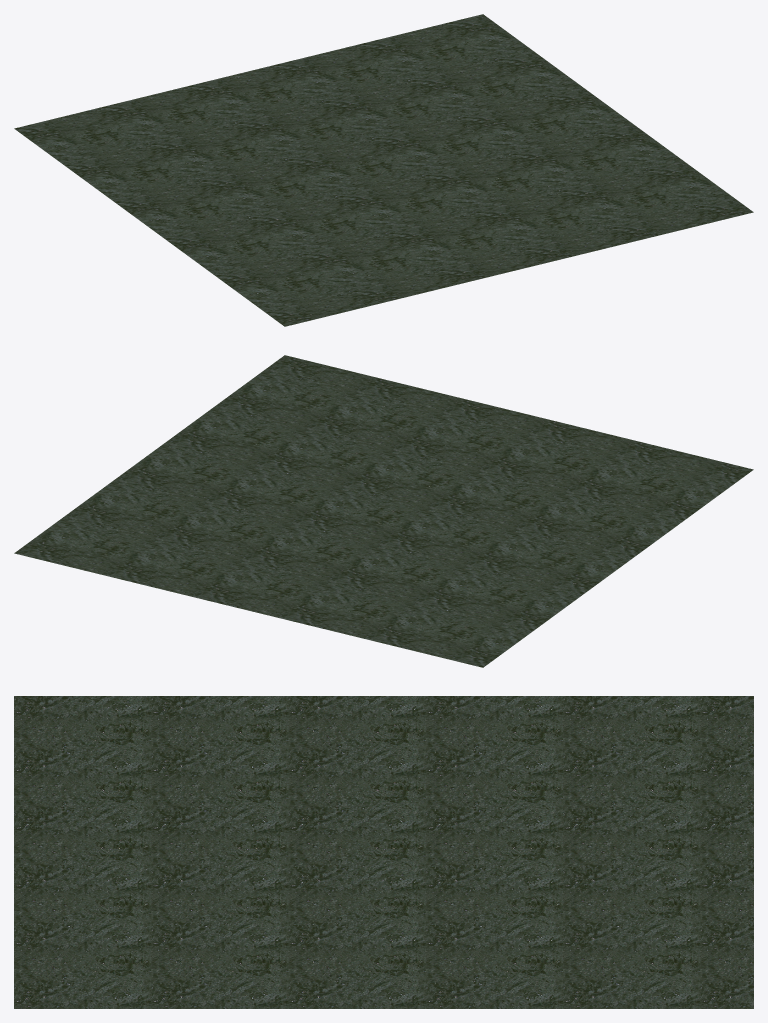
The model's file is water.obj.
3 renders of one model, top to bottom at view 1: azimuth 30°, elevation 25°; view 2: azimuth 150°, elevation 25°; view 3: azimuth 270°, elevation 25°, orthographic. The views are drawn at different scales.
Parts seen in each view (by area): view 1: Plane; view 2: Plane; view 3: Plane.
Boxes of the visible parts, left/top/right/bottom form: Plane: left=14, top=14, right=753, bottom=326; Plane: left=14, top=355, right=753, bottom=667; Plane: left=14, top=696, right=753, bottom=1008.
Bounding box in the file's own units: 6.17 × 0 × 6.17.
